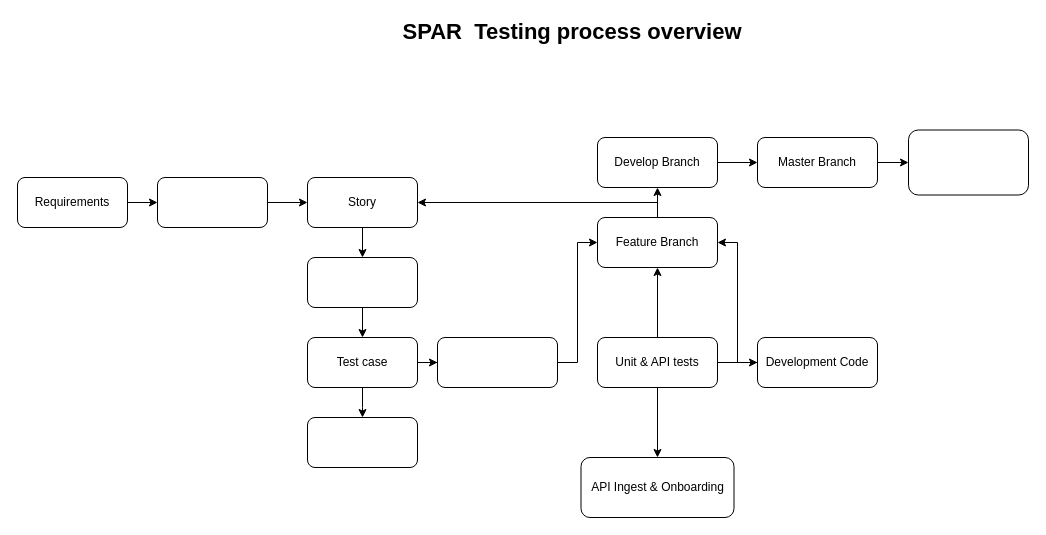
Image size: 1046x535. Some labels were removed from this diagram. Each missing label, with the centre of its shape:
Acceptance Criteria: point 362,282
Epic: point 212,202
Manual Testing: point 362,442
SPAR Application in TestFlight: point 968,162
UI Test: point 497,362
